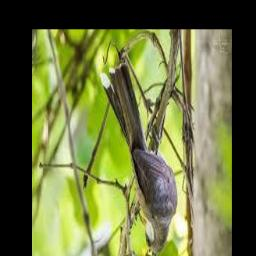Cuckoo: (99, 61, 178, 254)
